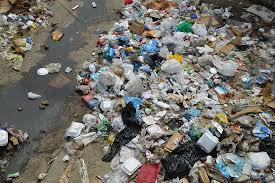garbage: (94, 1, 275, 183), (75, 62, 247, 135), (4, 6, 46, 67)
